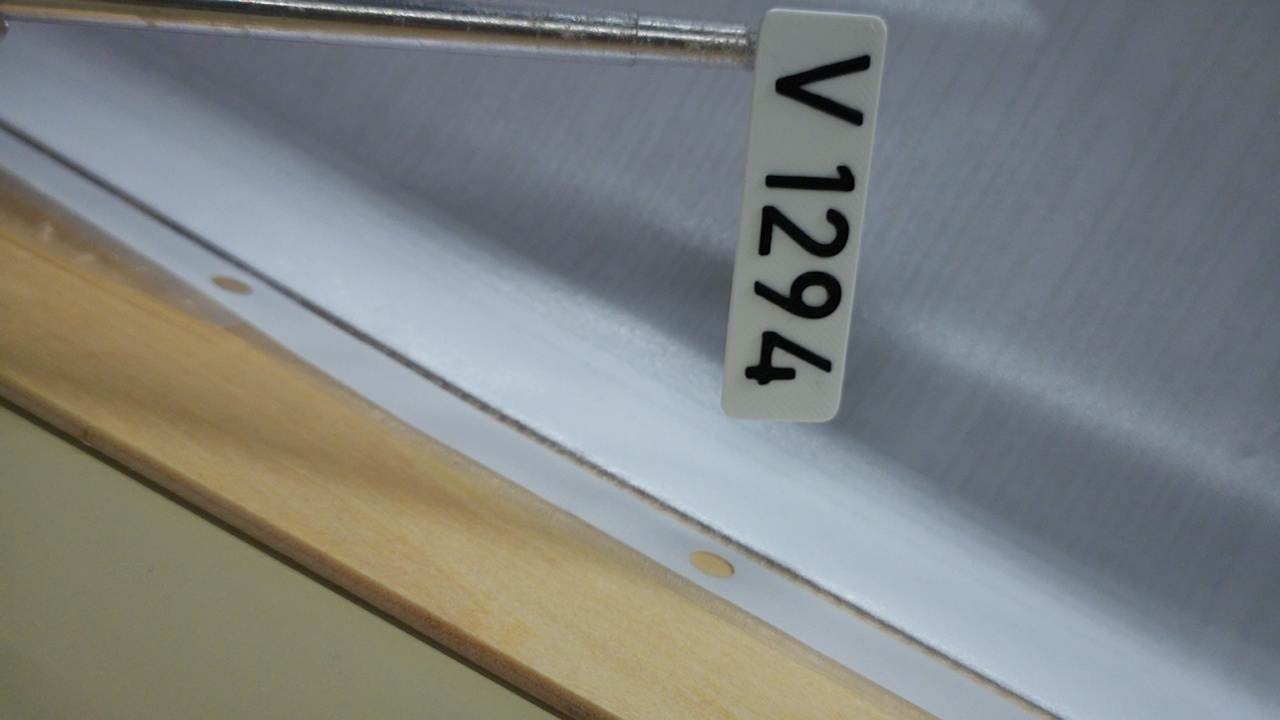license_plate: (718, 6, 893, 426)
